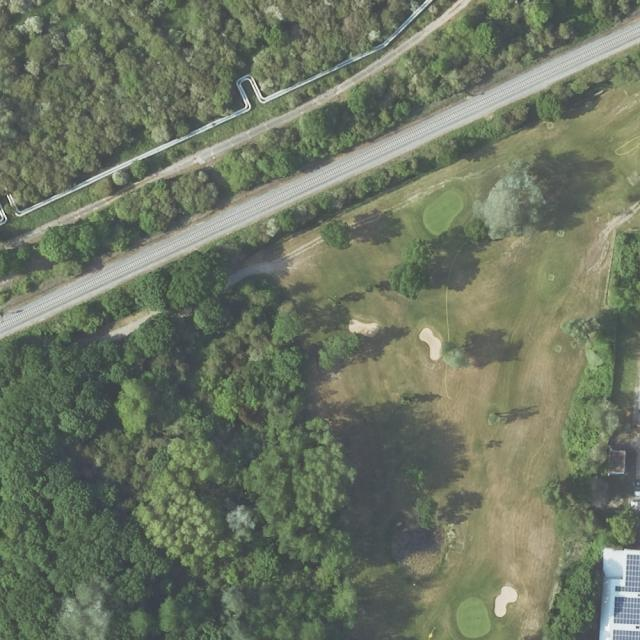PV: (614, 554, 640, 592), (613, 597, 640, 625), (613, 629, 640, 640)
